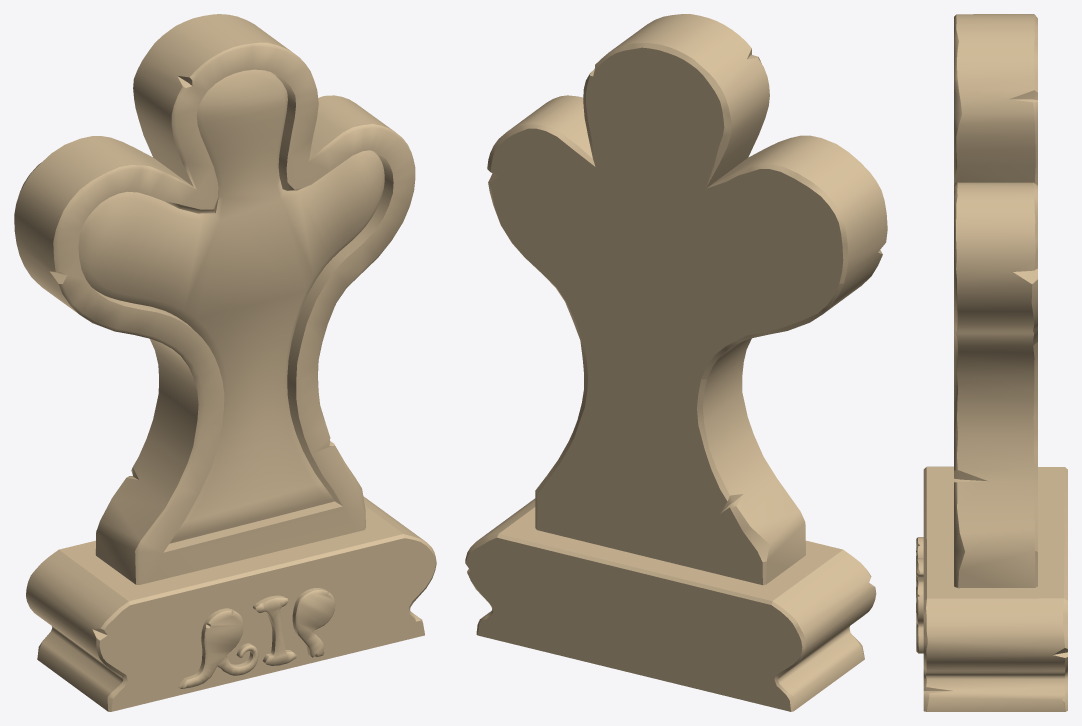
Rendered from SM_Gravestone_Tree_1.fbx.
3 renders of one model, left to right at view 1: azimuth 30°, elevation 25°; view 2: azimuth 150°, elevation 25°; view 3: azimuth 270°, elevation 25°, orthographic.
Parts seen in each view (by area): view 1: SM_Gravestone_Tree_1; view 2: SM_Gravestone_Tree_1; view 3: SM_Gravestone_Tree_1.
Boxes of the visible parts, x1,y1,x2,y2 form: SM_Gravestone_Tree_1: (14,14,436,711); SM_Gravestone_Tree_1: (465,14,887,711); SM_Gravestone_Tree_1: (916,14,1067,711).
Bounding box in the file's own units: 78.35 × 126 × 28.52.
